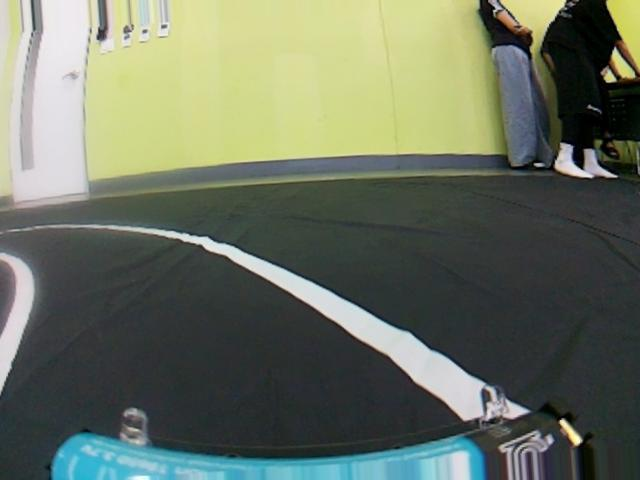left: (0, 205, 625, 479)
